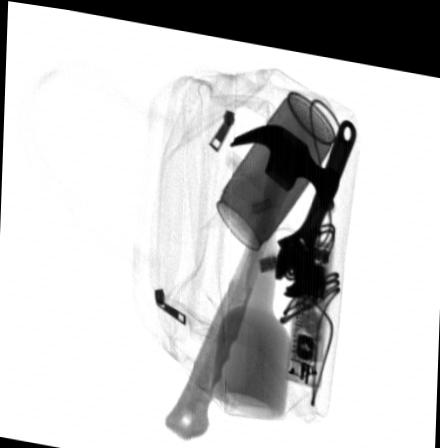Hammer: (165, 114, 338, 434)
Wrench: (274, 107, 356, 290)
